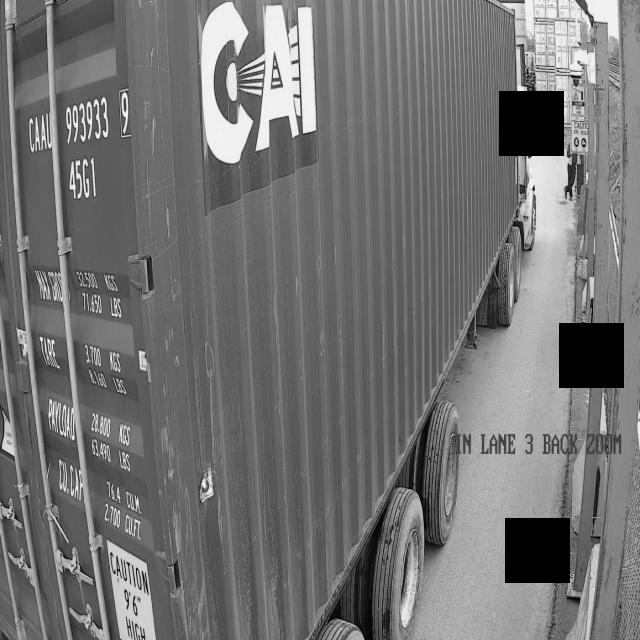container_company_logo: (192, 0, 322, 218)
container_number: (23, 71, 135, 205)
driver: (564, 143, 578, 198)
truck_with_container: (0, 0, 539, 640)
